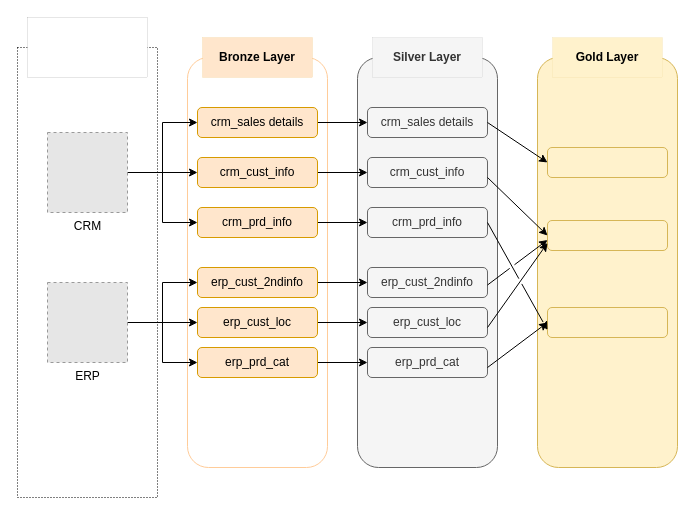
Some shapes in this 695 by 515 pixel diagram are drawn without their labels. Grey dashed boxes stand in for pictures. The shapes that lost their labels are listed below. From the top down, each one's centre as x and y in pixels, then its label:
At point (87, 47): "Sources".
At point (607, 162): "fact_sales".
At point (607, 235): "dim_customers".
At point (607, 322): "dim_products".
